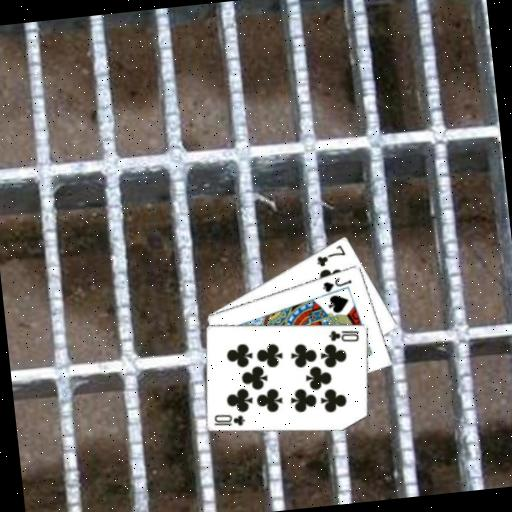10C: (325, 325, 362, 347), (210, 409, 247, 431)
7C: (313, 241, 349, 268)
JS: (319, 274, 355, 294)
